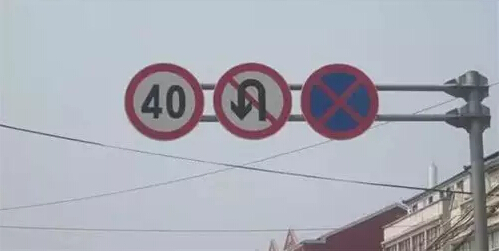Speed_limit_40km: (124, 62, 206, 143)
